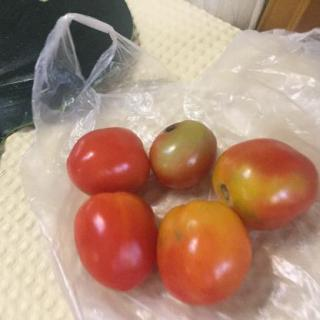Tomat: (47, 101, 320, 310)
